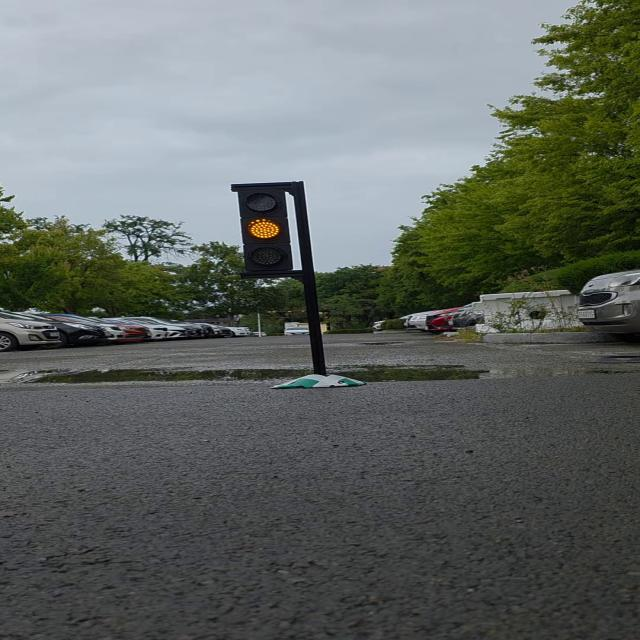yellow: (234, 186, 301, 274)
